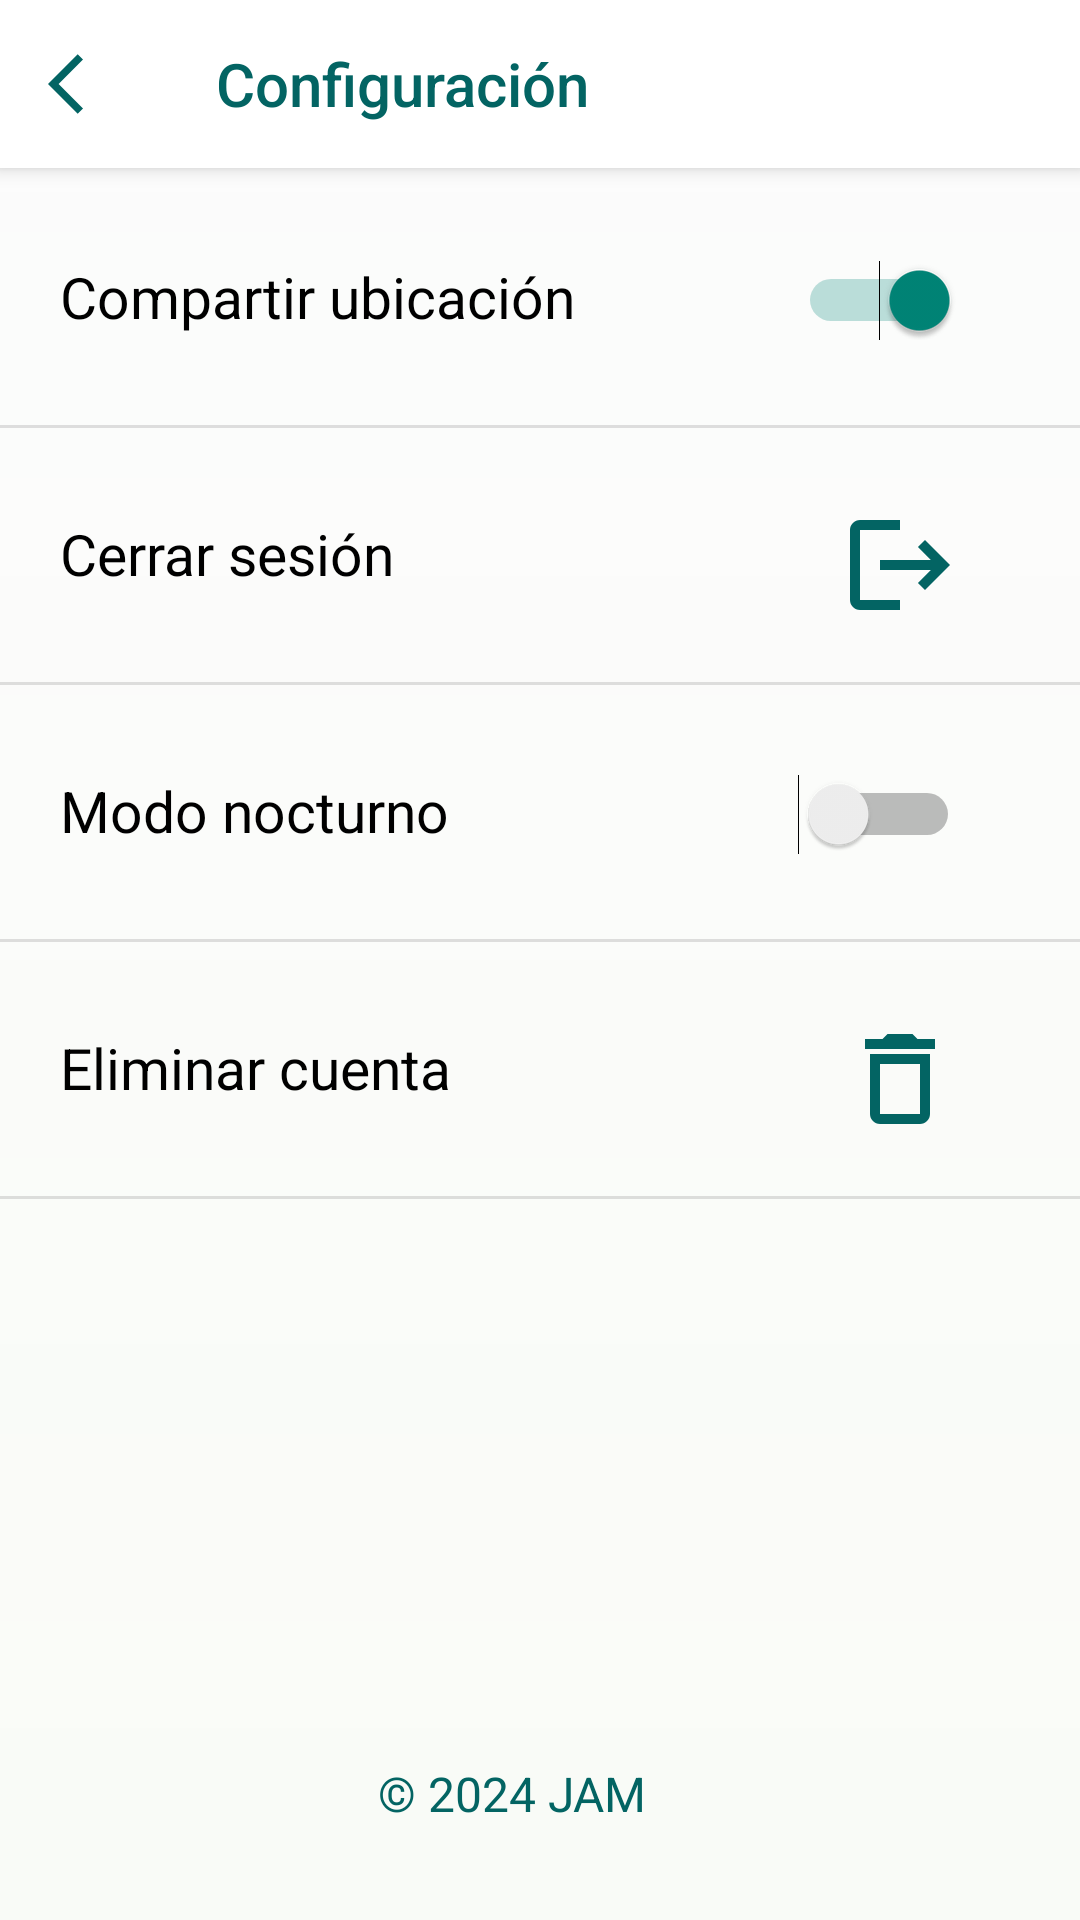

Where icons sit on this 1080w x 1920h app screen, as (x1, y1, x2, y2):
delete: (865, 1034, 935, 1124)
